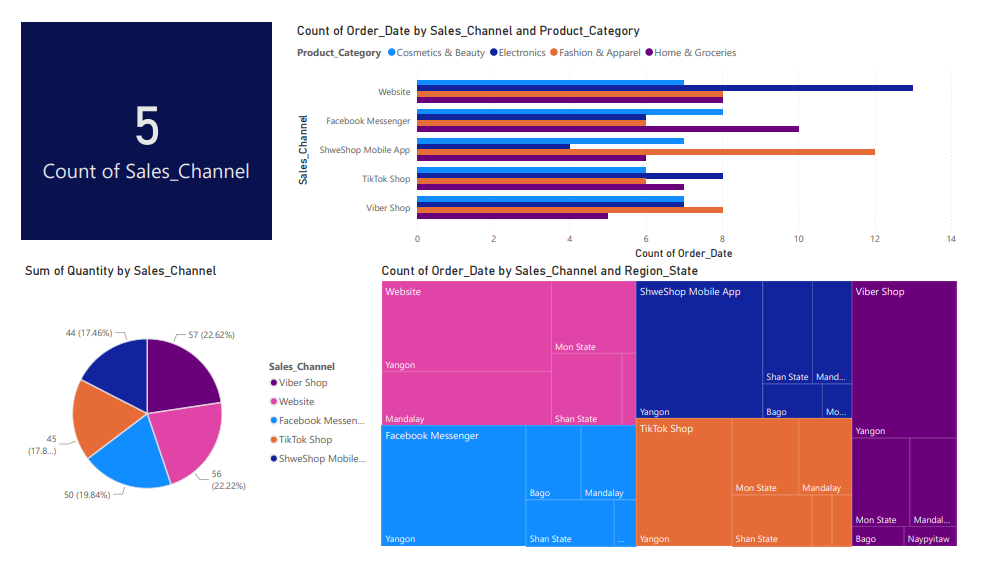

Layout of this report page (visuals, bound fields, positions):
{"tool":"powerbi","page":{"name":"Page 3","canvas":[1280,720],"ordinal":2},"visuals":[{"type":"card","fields":{"Values":["Count(Raw_Sales_Data.Sales_Channel)"]},"box":[10,18.3,333.3,288.3],"z":0},{"type":"pieChart","fields":{"Category":["Raw_Sales_Data.Sales_Channel"],"Y":["Sum(Raw_Sales_Data.Quantity)"]},"box":[10,338.3,475,381.7],"z":1},{"type":"clusteredBarChart","fields":{"Category":["Raw_Sales_Data.Sales_Channel"],"Y":["CountNonNull(Raw_Sales_Data.Order_Date)"],"Series":["Raw_Sales_Data.Product_Category"]},"box":[371.7,18.3,888.3,320],"z":2},{"type":"treemap","fields":{"Group":["Raw_Sales_Data.Sales_Channel"],"Details":["Raw_Sales_Data.Region_State"],"Values":["CountNonNull(Raw_Sales_Data.Order_Date)"]},"box":[485,338,775,382],"z":3}]}

Visuals, with their boxes in screenshot pixels (x1, y1, x2, y2), scaled from the page's 1280x720 canvas onto the 986x562 screenshot:
card - Count(Raw_Sales_Data.Sales_Channel): pyautogui.locateOnScreen(8, 14, 264, 239)
pieChart - Raw_Sales_Data.Sales_Channel x Sum(Raw_Sales_Data.Quantity): pyautogui.locateOnScreen(8, 264, 374, 561)
clusteredBarChart - Raw_Sales_Data.Sales_Channel x CountNonNull(Raw_Sales_Data.Order_Date): pyautogui.locateOnScreen(286, 14, 971, 264)
treemap - Raw_Sales_Data.Sales_Channel x Raw_Sales_Data.Region_State: pyautogui.locateOnScreen(374, 264, 971, 561)
